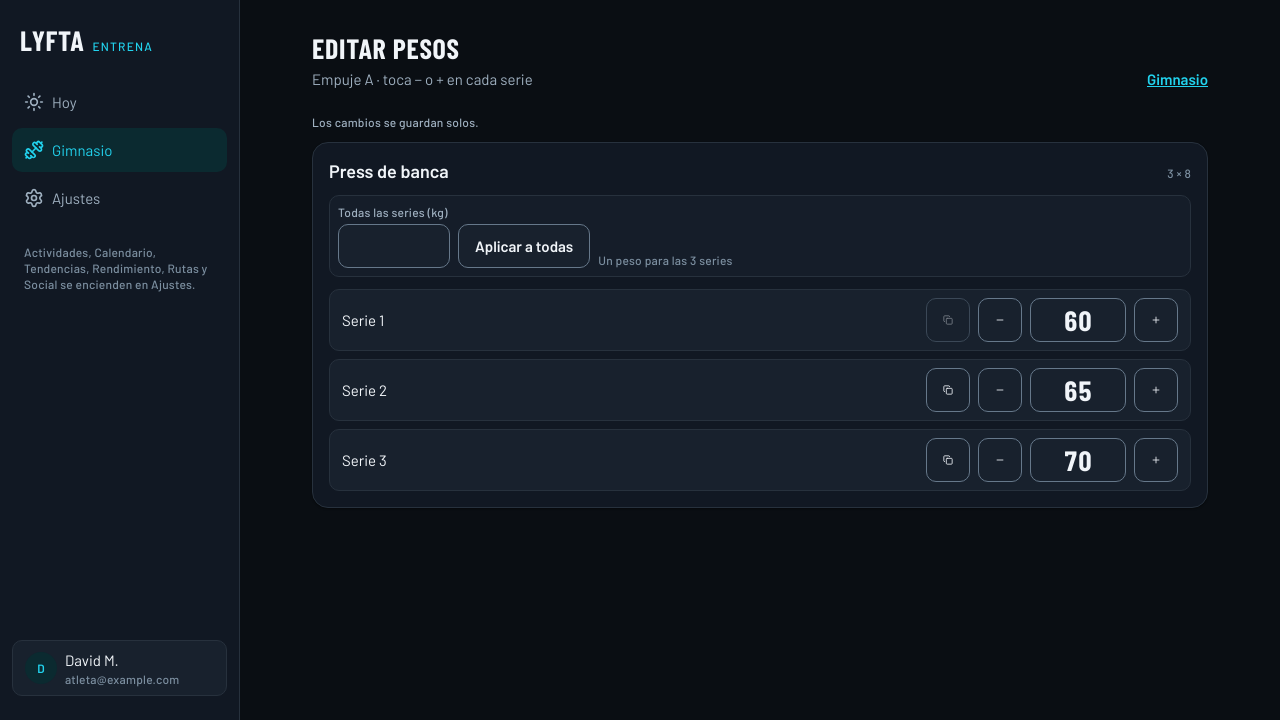
editor de pesos más rápido › aplica un peso a todas las series y lo guarda sin salir
In the number field named "peso para todas las series de press de banca": (394, 246) [338,224,450,268], type "80"
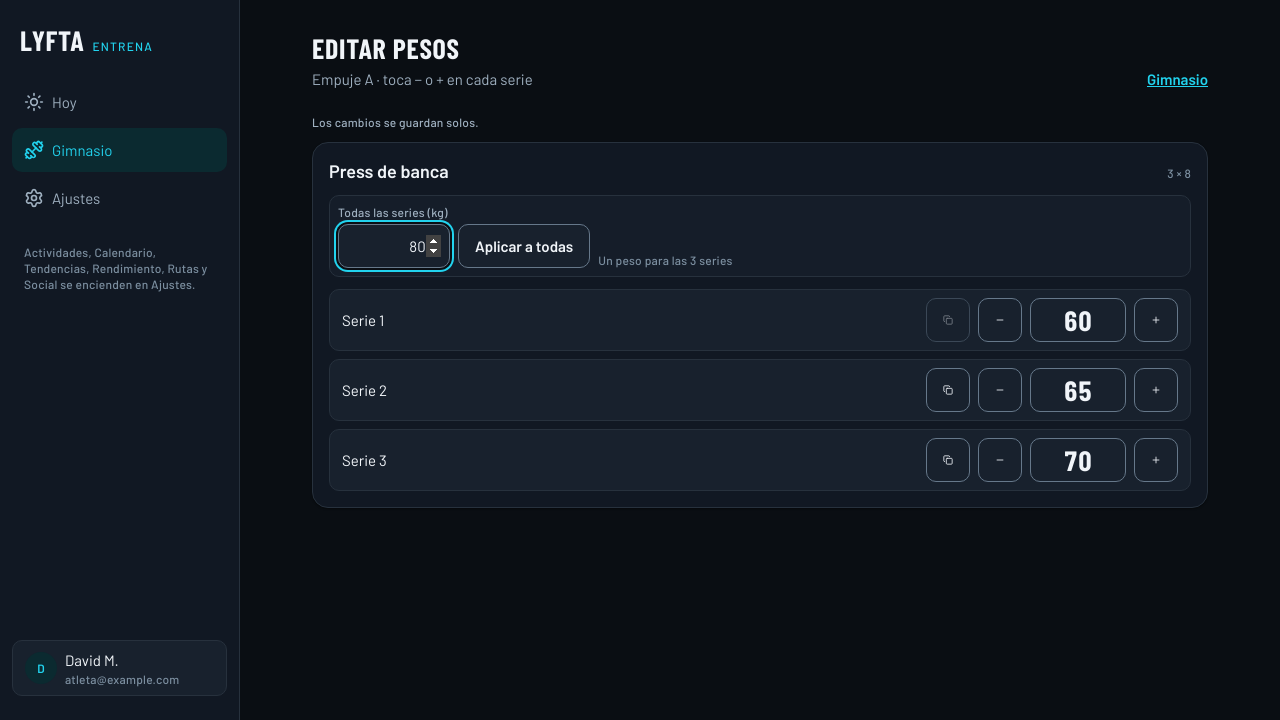
Click the button "Aplicar a todas": click(524, 246) [458,224,590,268]
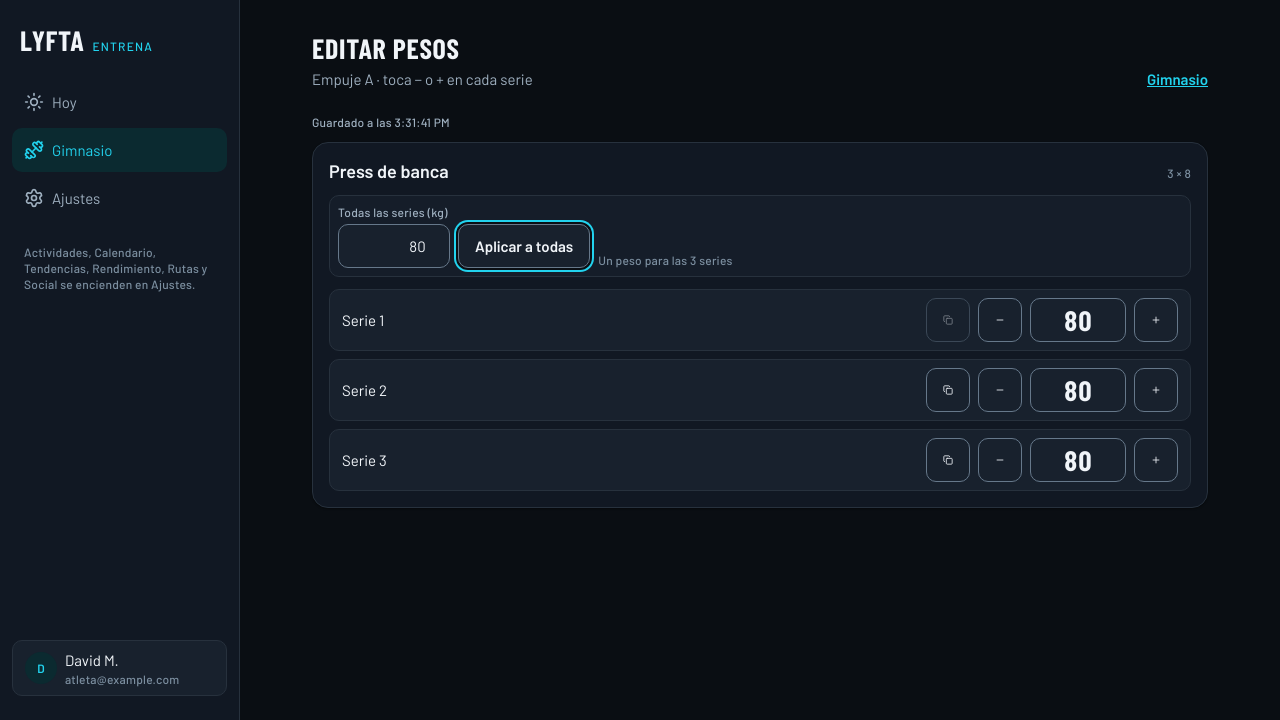
Expected: the text "Guardado a las 3:31:41 PM" is shown, [312,115,450,129]
